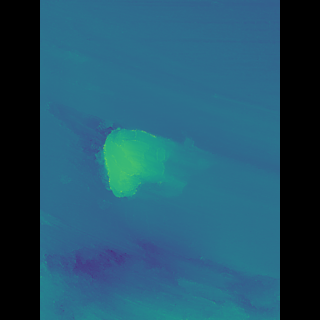Loch: (68, 218, 248, 319), (75, 97, 195, 204)
